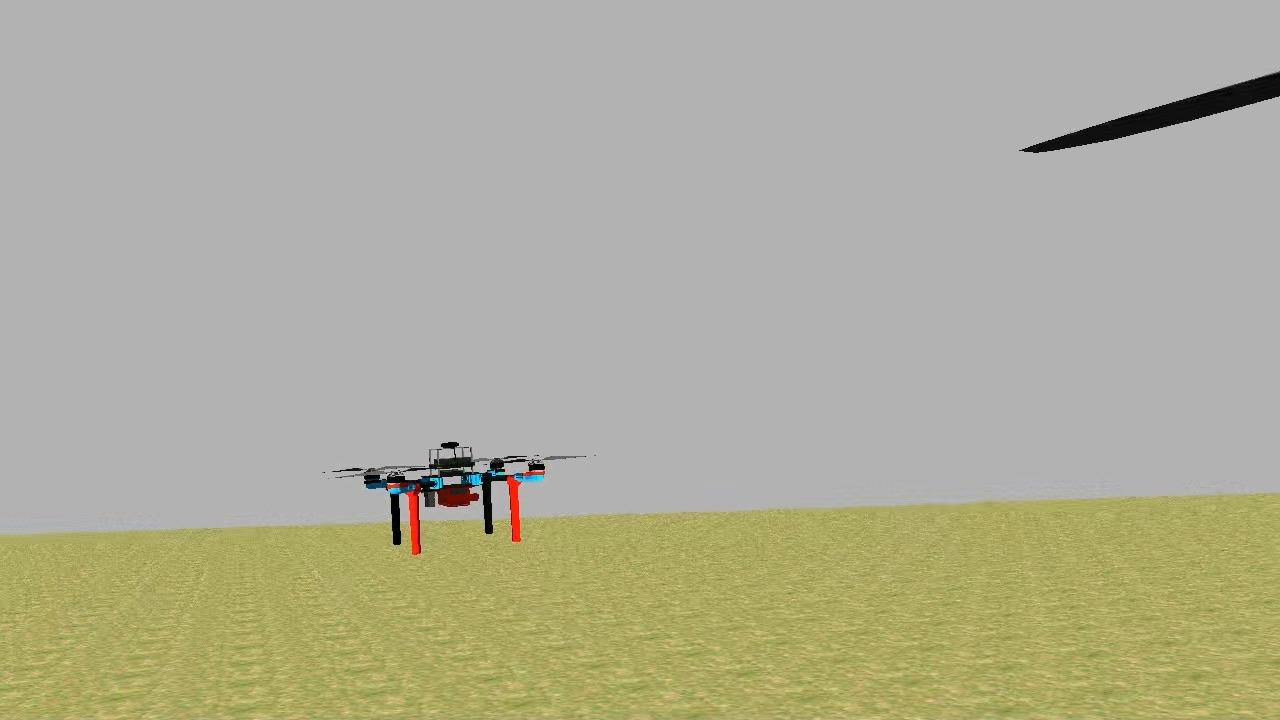UAV: (358, 434, 550, 554)
